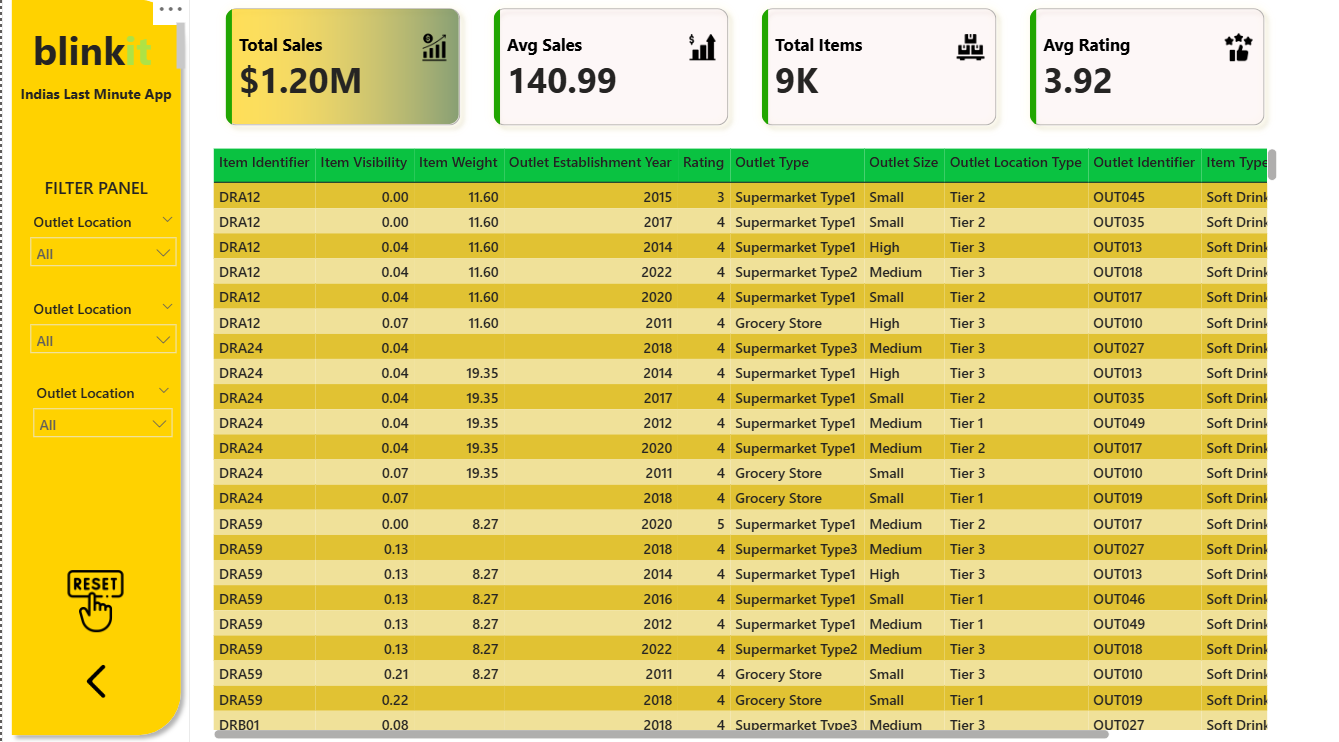

Layout of this report page (visuals, bound fields, positions):
{"tool":"powerbi","page":{"name":"Info","canvas":[1280,720],"ordinal":1},"visuals":[{"type":"shape","box":[0,0,179.7,720.5],"z":0},{"type":"textbox","box":[0,26.5,179.5,56.7],"z":1000},{"type":"textbox","box":[0,84.3,179.7,35],"z":2000},{"type":"cardVisual","fields":{"Data":["BlinkIT Grocery Data.Total Sales","BlinkIT Grocery Data.Avg Sales","BlinkIT Grocery Data.Total Items","BlinkIT Grocery Data.Avg Rating"]},"box":[196.4,0,1026.5,146.4],"z":3000},{"type":"slicer","fields":{"Values":["BlinkIT Grocery Data.Outlet Location Type"]},"box":[17.5,206.8,159.1,65.2],"z":4000},{"type":"slicer","fields":{"Values":["BlinkIT Grocery Data.Outlet Size"]},"box":[17.5,289.5,159.1,65.2],"z":5000},{"type":"slicer","fields":{"Values":["BlinkIT Grocery Data.Item Type"]},"box":[20.7,369,152.7,65.2],"z":6000},{"type":"textbox","box":[0,171.8,179.7,35],"z":7000},{"type":"image","box":[39.8,474,73.2,68.4],"z":8000},{"type":"actionButton","box":[40.4,473.7,73.2,69.3],"z":9000},{"type":"actionButton","title":"Reset","box":[27,566.2,119.4,82.8],"z":10000},{"type":"tableEx","fields":{"Values":["BlinkIT Grocery Data.Item Identifier","BlinkIT Grocery Data.Item Visibility","BlinkIT Grocery Data.Item Weight","BlinkIT Grocery Data.Outlet Establishment Year","BlinkIT Grocery Data.Rating","BlinkIT Grocery Data.Outlet Type","BlinkIT Grocery Data.Outlet Size","BlinkIT Grocery Data.Outlet Location Type","BlinkIT Grocery Data.Outlet Identifier","BlinkIT Grocery Data.Item Type","BlinkIT Grocery Data.Sales","BlinkIT Grocery Data.Item Fat Content"]},"box":[196,146,1026,574],"z":11000},{"type":"actionButton","box":[53.9,649,82.8,57.8],"z":11001}]}

Visuals, with their boxes on the page's 1280x720 design canvas (x1, y1, x2, y2). These are canvas units, not pixel positions in the 1339x742 screenshot, which may show the page scaled, cropped or inside an application window:
shape: [0,0,180,720]
textbox: [0,26,180,83]
textbox: [0,84,180,119]
cardVisual - BlinkIT Grocery Data.Total Sales x BlinkIT Grocery Data.Avg Sales: [196,0,1223,146]
slicer - BlinkIT Grocery Data.Outlet Location Type: [18,207,177,272]
slicer - BlinkIT Grocery Data.Outlet Size: [18,290,177,355]
slicer - BlinkIT Grocery Data.Item Type: [21,369,173,434]
textbox: [0,172,180,207]
image: [40,474,113,542]
actionButton: [40,474,114,543]
"Reset" actionButton: [27,566,146,649]
tableEx - BlinkIT Grocery Data.Item Identifier x BlinkIT Grocery Data.Item Visibility: [196,146,1222,720]
actionButton: [54,649,137,707]
